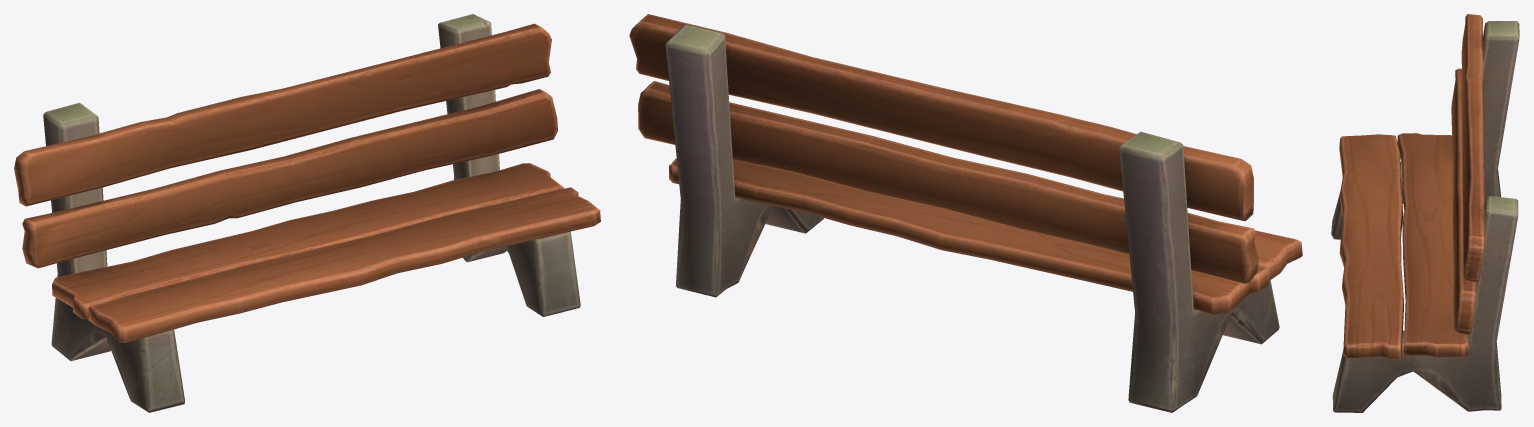
The model's file is bench_01.glb.
3 views of the same model, side by side, from view 1: azimuth 30°, elevation 25°; view 2: azimuth 150°, elevation 25°; view 3: azimuth 270°, elevation 25° (orthographic). The views are drawn at different scales.
Visible parts, largest first — view 1: Back_low__0, Saddle_low__0, Legs_low__0; view 2: Back_low__0, Legs_low__0, Saddle_low__0; view 3: Saddle_low__0, Legs_low__0, Back_low__0.
Boxes of the visible parts, x1,y1,x2,y2 form: Back_low__0: [14, 23, 557, 268]; Saddle_low__0: [52, 163, 600, 342]; Legs_low__0: [43, 14, 580, 412]; Back_low__0: [629, 14, 1258, 284]; Legs_low__0: [665, 24, 1279, 412]; Saddle_low__0: [669, 158, 1302, 314]; Saddle_low__0: [1339, 133, 1468, 359]; Legs_low__0: [1331, 21, 1519, 412]; Back_low__0: [1451, 14, 1484, 335].
Size of the model in its own units: 6.1 by 2.51 by 2.09.
Materials: 1 (1 with a texture image).
